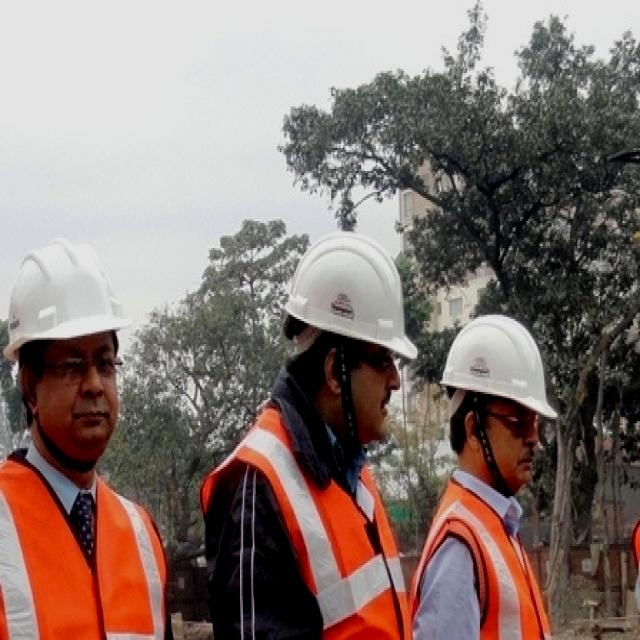Con_Casco: (293, 226, 406, 426)
Con_Chaleco: (0, 455, 165, 640), (421, 474, 546, 640)
